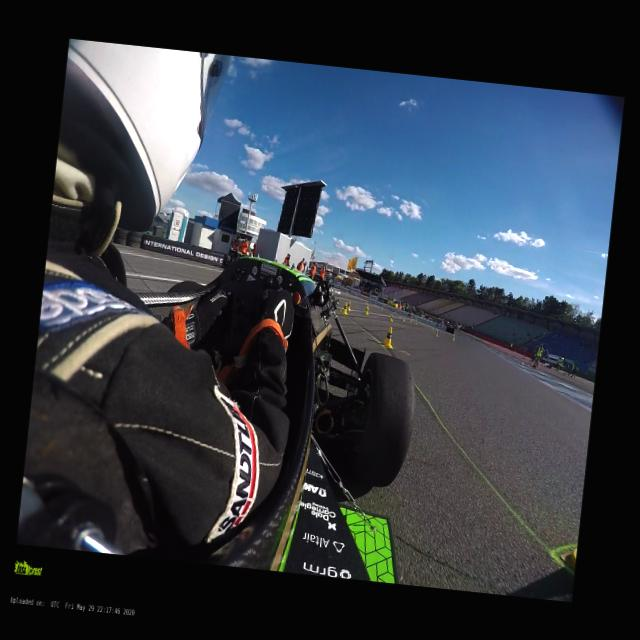yellow_cone: (382, 326, 394, 348), (342, 302, 348, 314), (364, 305, 368, 315), (346, 300, 350, 310), (388, 313, 392, 321), (450, 334, 454, 340), (401, 315, 405, 321), (435, 329, 438, 336), (408, 317, 412, 322), (414, 320, 416, 324), (380, 306, 382, 310), (432, 325, 434, 329)
